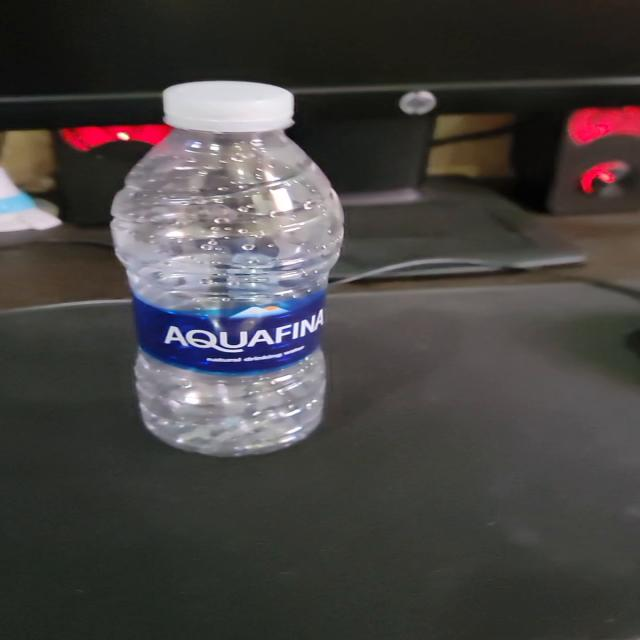Anorganik: (108, 79, 353, 462)
